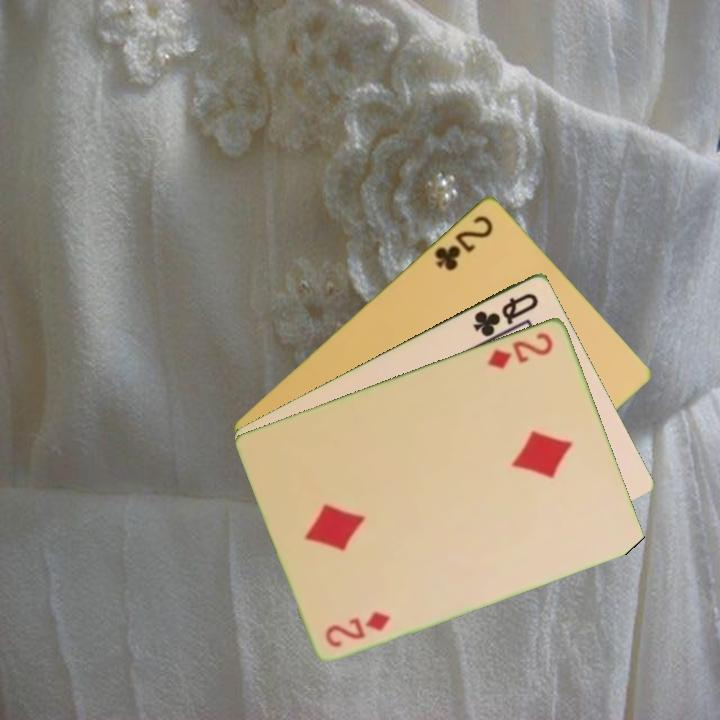2c: (430, 211, 496, 274)
2d: (484, 328, 557, 372), (321, 607, 394, 650)
Qc: (469, 288, 542, 340)
